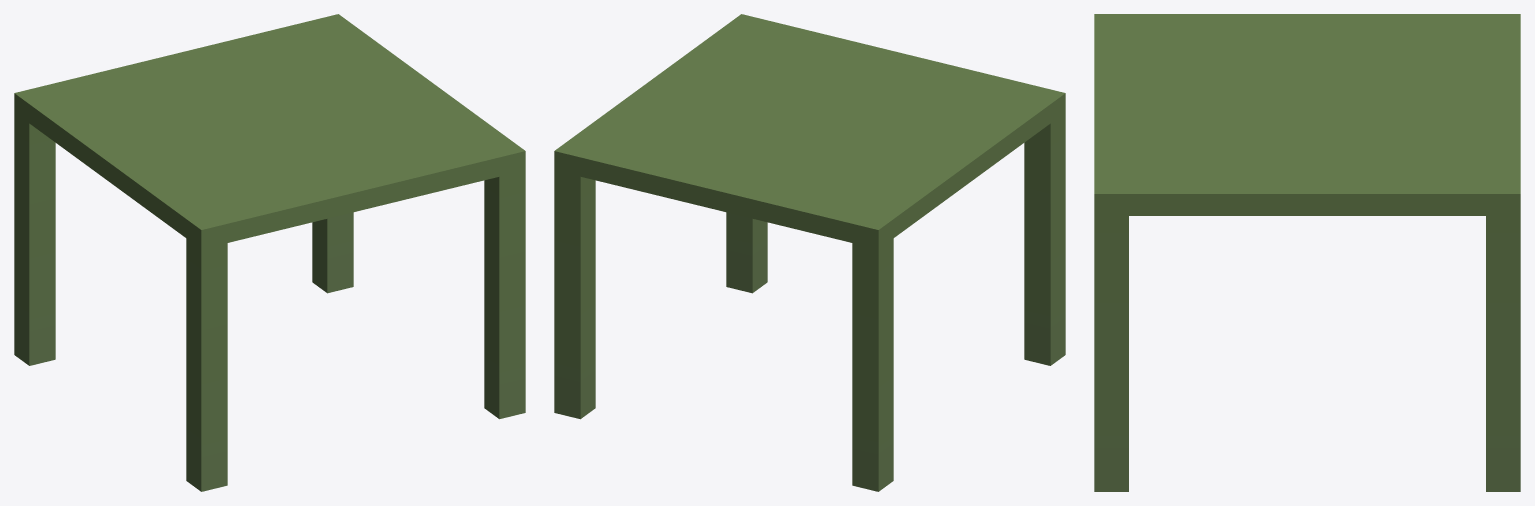
File: Table_07.fbx
3 views of the same model, side by side, from view 1: azimuth 30°, elevation 25°; view 2: azimuth 150°, elevation 25°; view 3: azimuth 270°, elevation 25° (orthographic). The views are drawn at different scales.
Visible parts, largest first — view 1: Table_07; view 2: Table_07; view 3: Table_07.
Boxes of the visible parts, <box> form: Table_07: <box>14,14,525,491</box>; Table_07: <box>554,14,1065,491</box>; Table_07: <box>1094,14,1520,491</box>.
Size of the model in its own units: 1.1 by 0.8489 by 1.1.
